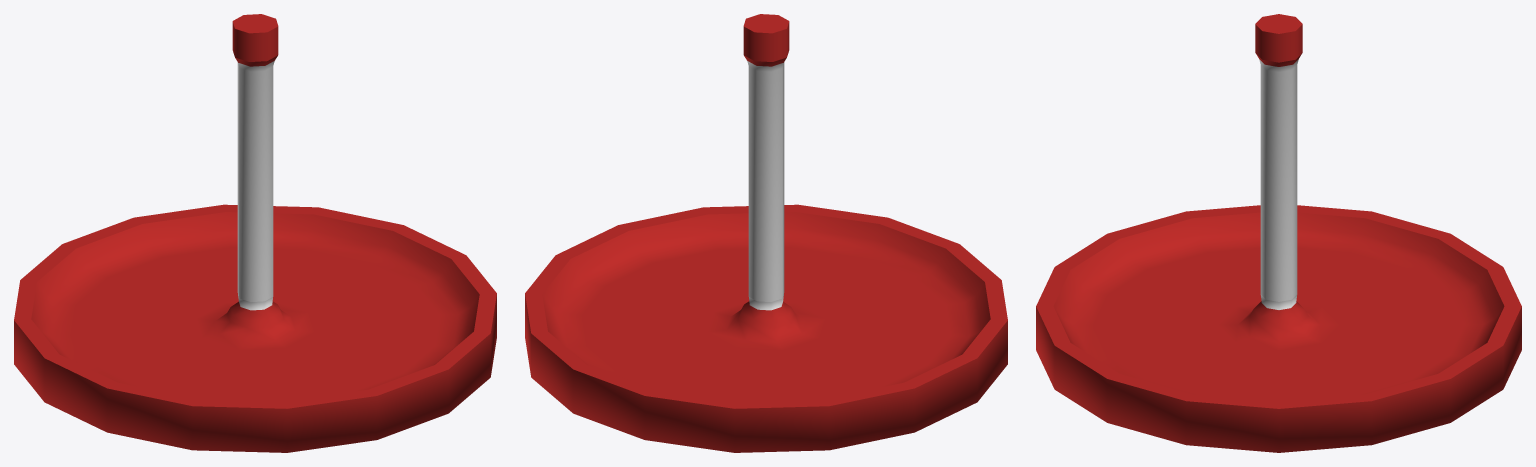
File: CruetStand.glb
3 views of the same model, side by side, from view 1: azimuth 30°, elevation 25°; view 2: azimuth 150°, elevation 25°; view 3: azimuth 270°, elevation 25° (orthographic).
Parts seen in each view (by area): view 1: Cylinder; view 2: Cylinder; view 3: Cylinder.
Boxes of the visible parts, box(x1,y1,x2,y2) form: Cylinder: box(14, 14, 496, 452); Cylinder: box(525, 14, 1007, 452); Cylinder: box(1036, 14, 1521, 452).
Size of the model in its own units: 0.8 by 0.5929 by 0.8.
